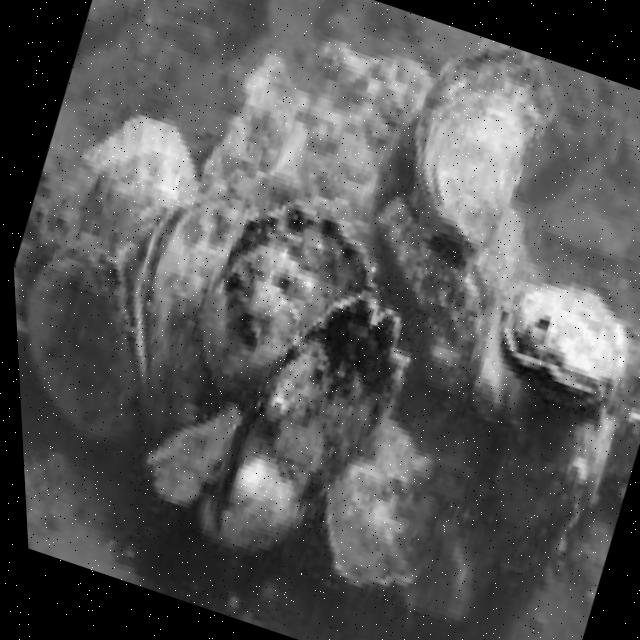Oyster-Closed: (132, 193, 260, 439), (505, 285, 631, 407)
Oyster-Indeterminate: (196, 40, 610, 619), (201, 290, 406, 548), (207, 207, 376, 400), (414, 42, 560, 244), (316, 451, 479, 587), (21, 242, 134, 427), (65, 122, 201, 273)
